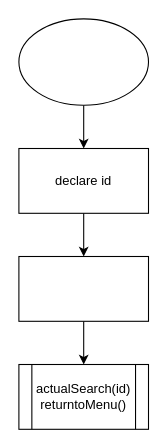
The diagram is 167 pixels wide and 448 high, and some of its shapes have lost their labels. The shapes that lost their labels are listed below. From the top down, each one's centre as x and y in pixels, then its label:
At (83,61): "Begin".
At (83,288): "prompt user to enter id, read id".
